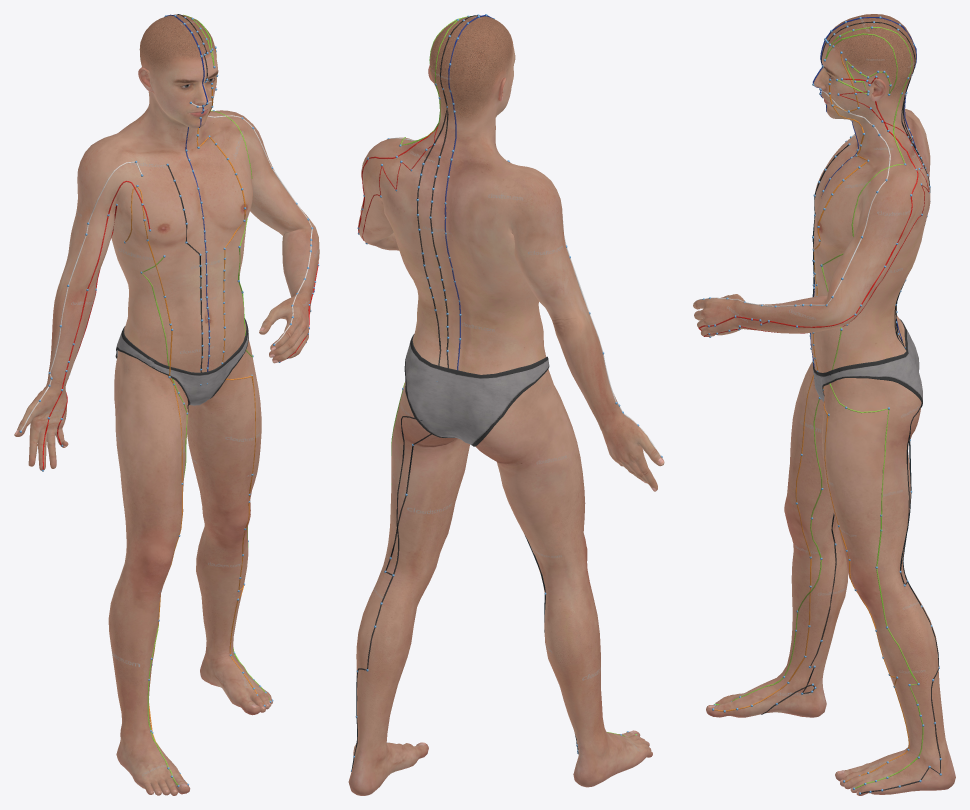
Rendered from meridian_acupoint.glb.
3 renders of one model, left to right at view 1: azimuth 30°, elevation 25°; view 2: azimuth 150°, elevation 25°; view 3: azimuth 270°, elevation 25°, orthographic. The views are drawn at different scales.
Visible parts, largest first — view 1: CC_Base_Body, Underwear_Bottoms, ST_Line, SP_Line, LV_Line, PC_Line, GB_Line; view 2: CC_Base_Body, Underwear_Bottoms, BL_Line, DU_Line; view 3: CC_Base_Body, Underwear_Bottoms, GB_Line, BL_Line, ST_Line, SJ_Line, SP_Line, KI_Line, LI_Line, LV_Line.
Boxes of the visible parts, bbox=[...] form: CC_Base_Body: bbox=[14, 14, 319, 795]; Underwear_Bottoms: bbox=[115, 318, 248, 405]; ST_Line: bbox=[196, 49, 263, 703]; SP_Line: bbox=[125, 186, 187, 783]; LV_Line: bbox=[142, 257, 187, 785]; PC_Line: bbox=[42, 181, 150, 469]; GB_Line: bbox=[183, 14, 270, 700]; CC_Base_Body: bbox=[348, 15, 664, 795]; Underwear_Bottoms: bbox=[404, 334, 549, 446]; BL_Line: bbox=[351, 15, 477, 769]; DU_Line: bbox=[444, 15, 492, 369]; CC_Base_Body: bbox=[693, 14, 955, 795]; Underwear_Bottoms: bbox=[813, 319, 922, 407]; GB_Line: bbox=[821, 27, 923, 788]; BL_Line: bbox=[821, 21, 940, 793]; ST_Line: bbox=[813, 54, 909, 781]; SJ_Line: bbox=[698, 77, 918, 330]; SP_Line: bbox=[714, 375, 813, 711]; KI_Line: bbox=[761, 145, 848, 714]; LI_Line: bbox=[695, 90, 890, 306]; LV_Line: bbox=[714, 396, 822, 705].
Bounding box in the file's own units: 0.7774 × 1.81 × 0.584.
21 materials, 9 textured.
